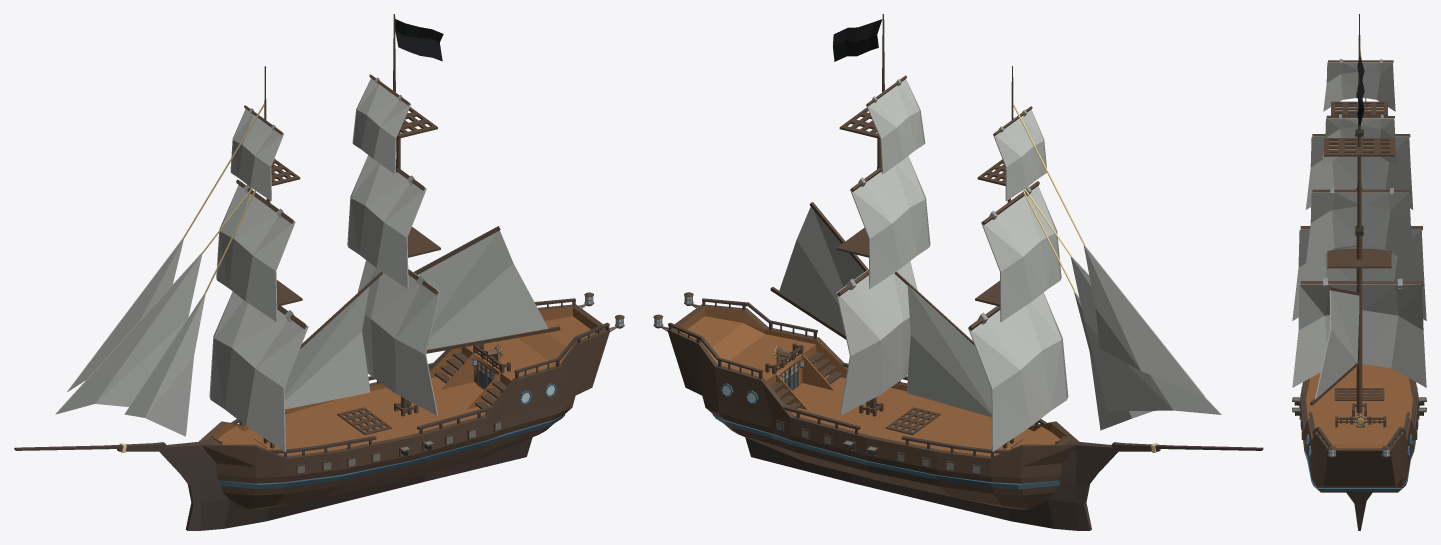
Rendered from queenBarbsJustice.obj.
The picture shows the model from 3 angles, left to right: view 1: azimuth 30°, elevation 25°; view 2: azimuth 150°, elevation 25°; view 3: azimuth 270°, elevation 25°; orthographic projection. The views are drawn at different scales.
Visible parts, largest first — view 1: Sail, Body, Mast; view 2: Sail, Body, Mast; view 3: Sail, Body, Mast.
Boxes of the visible parts, box(x1,y1,x2,y2) form: Sail: box(55, 19, 548, 451); Body: box(14, 292, 624, 530); Mast: box(183, 14, 560, 413); Sail: box(779, 19, 1221, 451); Body: box(653, 292, 1263, 530); Mast: box(770, 14, 1085, 413); Sail: box(1292, 56, 1426, 399); Body: box(1292, 364, 1426, 530); Mast: box(1300, 14, 1422, 413).
Size of the model in its own units: 663 by 506 by 147.
1 material, 1 textured.
